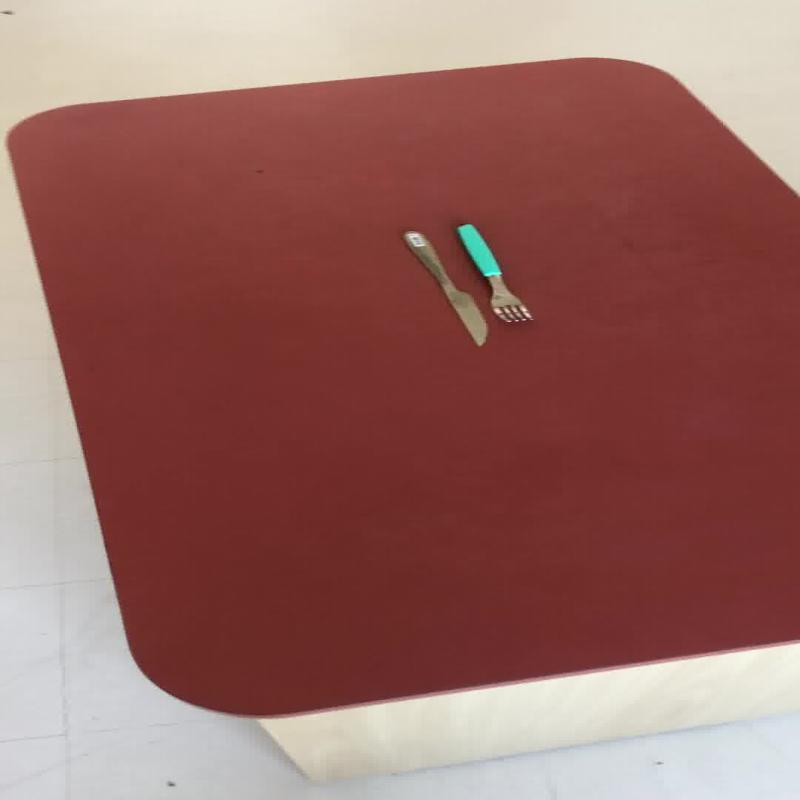fork: (454, 222, 532, 322)
knife: (399, 228, 488, 346)
